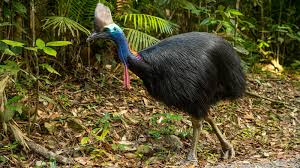Walking: (74, 0, 251, 167)
